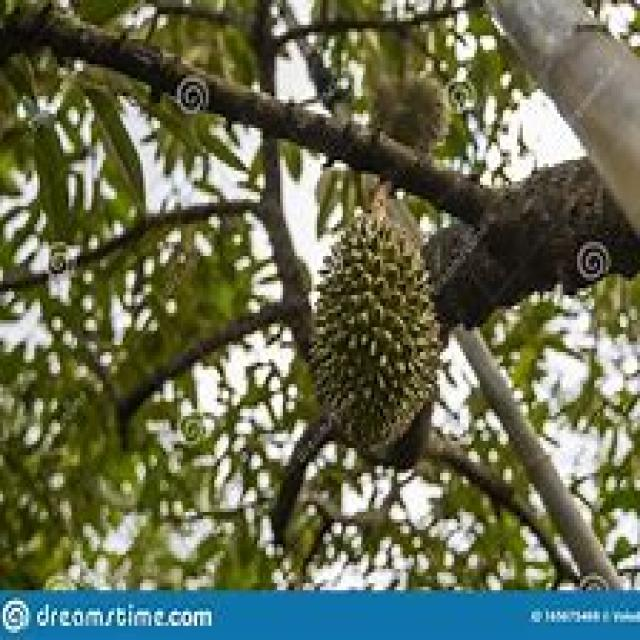mature: (311, 213, 441, 447)
